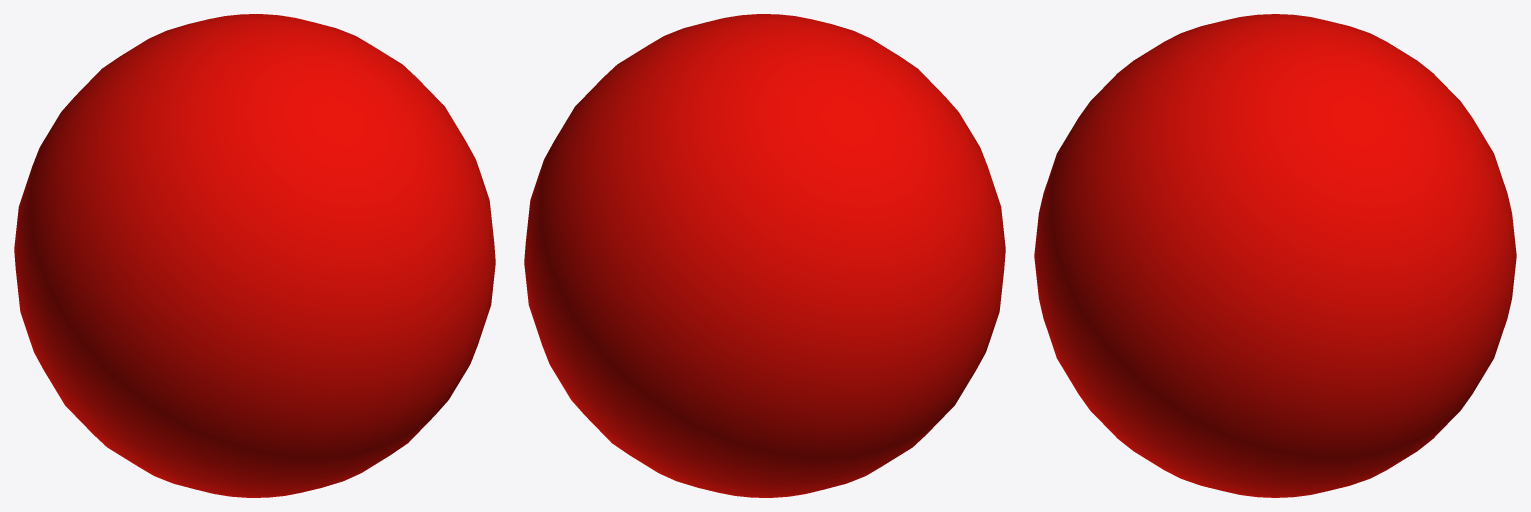
File: red.fbx
3 views of the same model, side by side, from view 1: azimuth 30°, elevation 25°; view 2: azimuth 150°, elevation 25°; view 3: azimuth 270°, elevation 25° (orthographic).
Visible parts, largest first — view 1: Sphere; view 2: Sphere; view 3: Sphere.
Part boxes in pixels (left/top/right/bottom): Sphere: left=14, top=14, right=495, bottom=497; Sphere: left=524, top=14, right=1005, bottom=497; Sphere: left=1034, top=14, right=1516, bottom=497.
Bounding box in the file's own units: 99.04 × 99.04 × 99.04.
